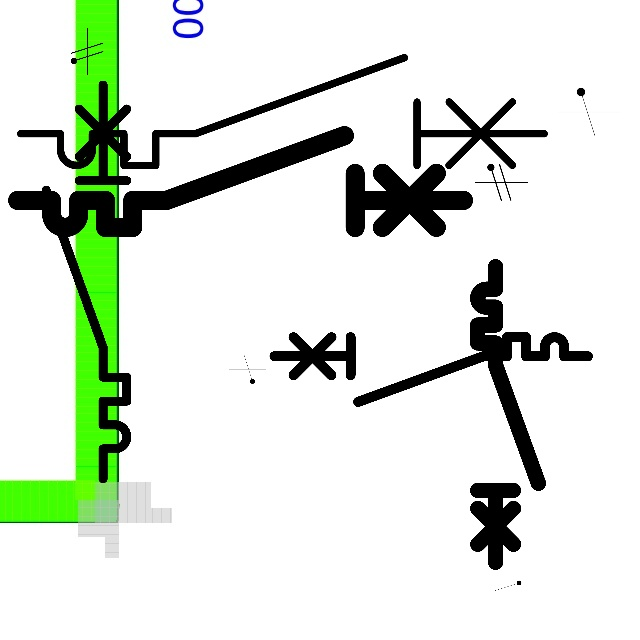interruptor_termomagnetico: (7, 44, 558, 179), (6, 124, 475, 239), (36, 74, 137, 488), (266, 329, 596, 409), (470, 259, 546, 570)
